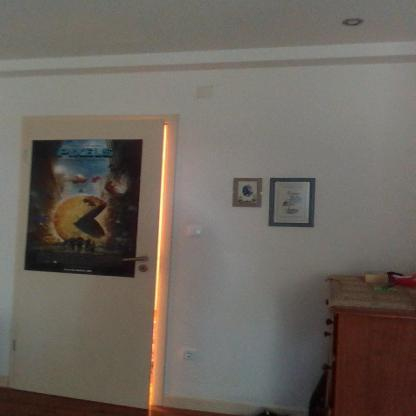door: (26, 123, 158, 413)
hinged: (22, 150, 29, 162), (12, 338, 18, 352)
lever: (120, 257, 151, 263)
